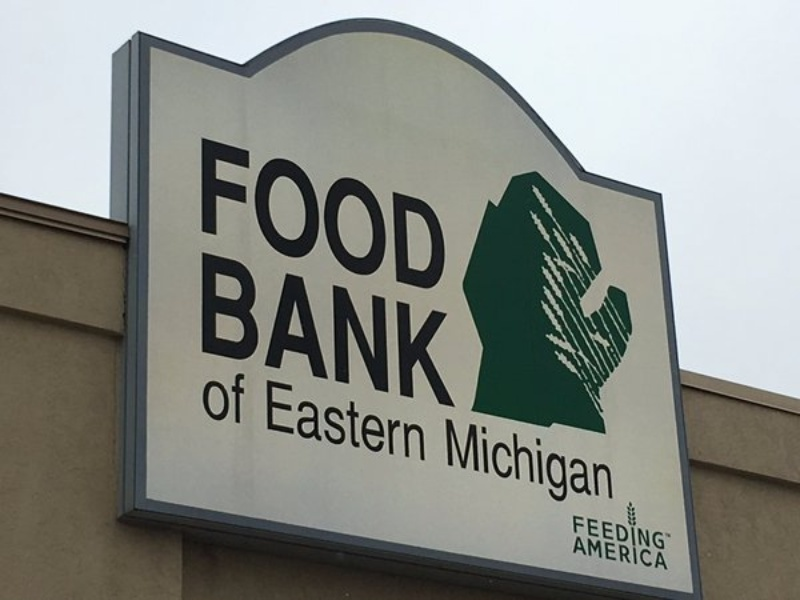text: (433, 135, 449, 298), (209, 135, 224, 298), (225, 135, 240, 298), (241, 135, 256, 298), (257, 135, 272, 298), (273, 135, 288, 298), (289, 135, 304, 298), (305, 135, 320, 298), (321, 135, 336, 298), (337, 135, 352, 298), (353, 135, 368, 298), (369, 135, 384, 298), (385, 135, 400, 298), (401, 135, 416, 298), (417, 135, 432, 298), (209, 249, 224, 410), (225, 249, 240, 410), (241, 249, 256, 410), (257, 249, 272, 410), (273, 249, 288, 410), (289, 249, 304, 410), (305, 249, 320, 410), (321, 249, 336, 410), (337, 249, 352, 410), (353, 249, 368, 410), (369, 249, 384, 410), (385, 249, 400, 410), (401, 249, 416, 410), (417, 249, 432, 410), (433, 249, 448, 410), (198, 249, 208, 410), (449, 415, 464, 514), (465, 415, 480, 514), (481, 415, 496, 514), (497, 415, 512, 514), (513, 415, 528, 514), (529, 415, 544, 514), (545, 415, 560, 514), (561, 415, 576, 514), (577, 415, 592, 514), (593, 415, 608, 514), (199, 135, 208, 298), (449, 249, 458, 410), (273, 377, 288, 465), (289, 377, 304, 465), (305, 377, 320, 465), (321, 377, 336, 465), (337, 377, 352, 465), (353, 377, 368, 465), (369, 377, 384, 465), (385, 377, 400, 465), (401, 377, 416, 465), (209, 365, 224, 429), (225, 365, 240, 429), (417, 377, 427, 465), (609, 415, 617, 514), (265, 377, 272, 465), (442, 415, 448, 514), (577, 515, 592, 553), (593, 515, 608, 553), (609, 515, 624, 553), (625, 515, 640, 553), (641, 515, 656, 553), (577, 535, 592, 571), (593, 535, 608, 571), (609, 535, 624, 571), (625, 535, 640, 571), (641, 535, 656, 571), (657, 535, 670, 571), (201, 365, 208, 429), (241, 365, 247, 429), (657, 515, 667, 553), (573, 515, 576, 553), (574, 535, 576, 571), (665, 531, 672, 539)
